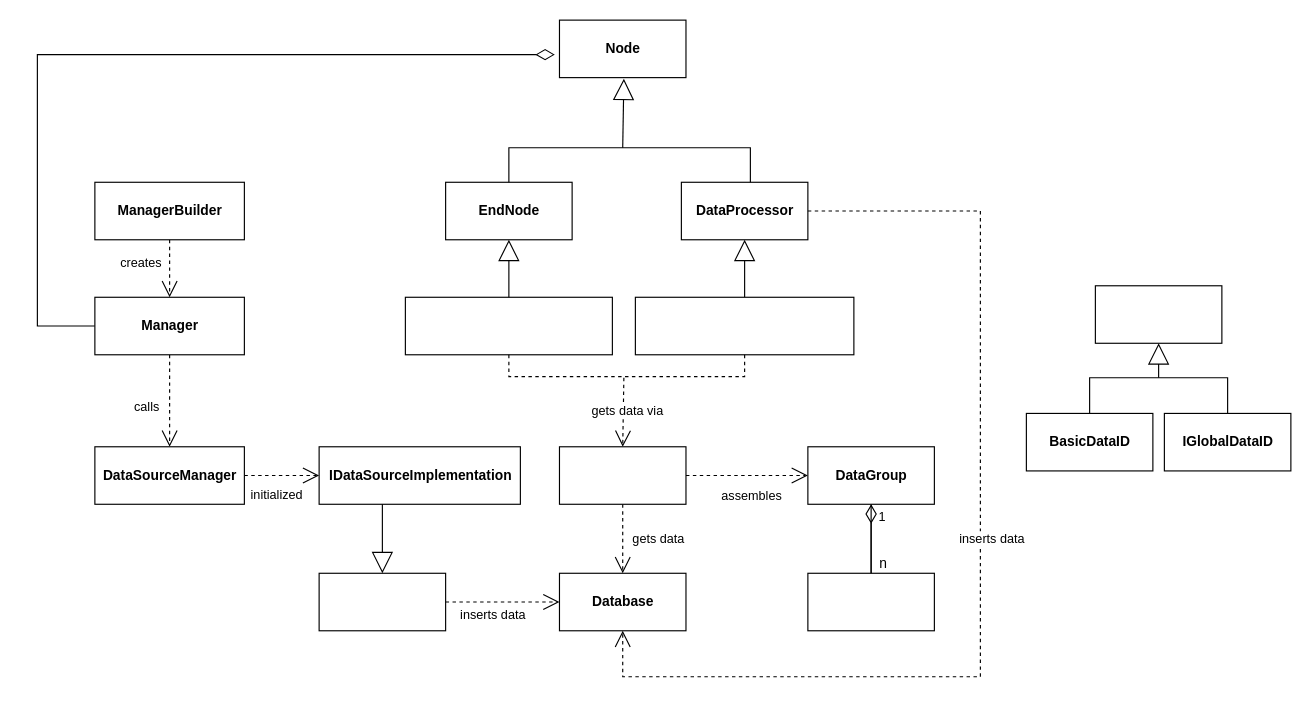
Some shapes in this 1311 by 713 pixel diagram are drawn without their labels. Here are the shapes that lost their labels. From the top down, the box of each, then its label:
(404, 296, 612, 355): EndNodeImplementation
(634, 296, 854, 355): DataProcessorImplementation
(1094, 285, 1222, 343): IDataID
(558, 446, 686, 504): node_decorator
(318, 572, 446, 631): IDataSource
(807, 572, 934, 631): DataField
